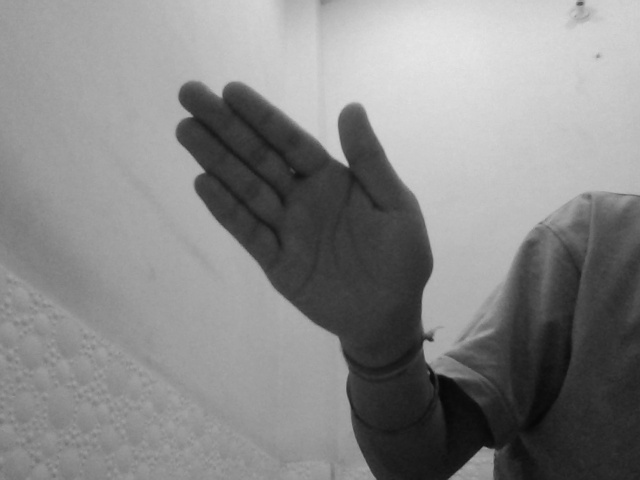Hello: (170, 75, 437, 348)
